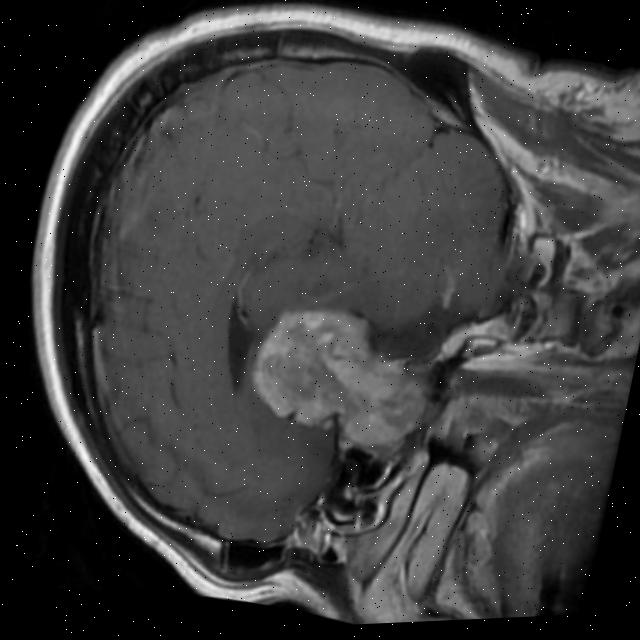Pituitary: (241, 289, 441, 460)
